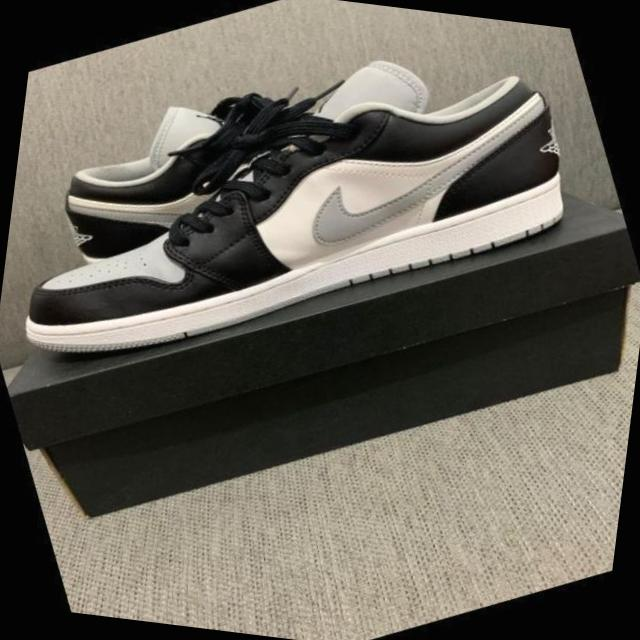nike_fake_jordan: (0, 0, 602, 442), (35, 0, 481, 305)
